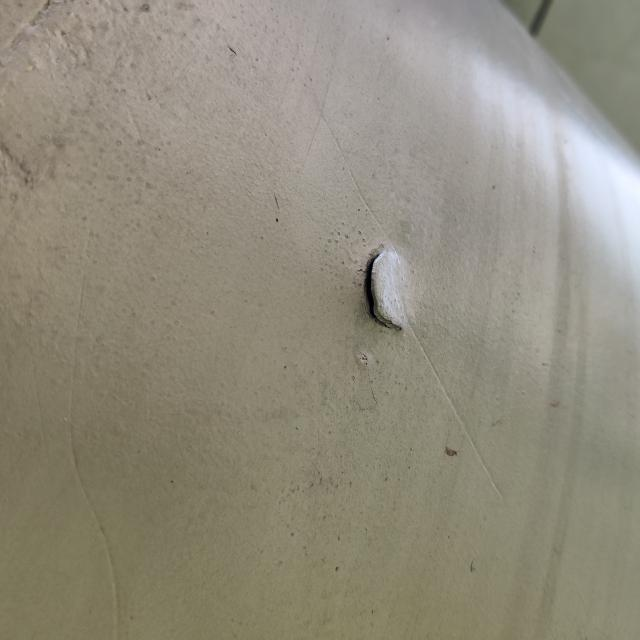Crack: (365, 243, 421, 330)
